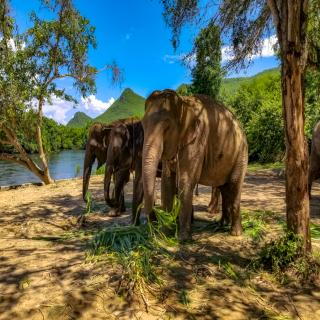Elephant: (138, 75, 252, 236), (99, 106, 156, 225), (78, 108, 112, 205)
